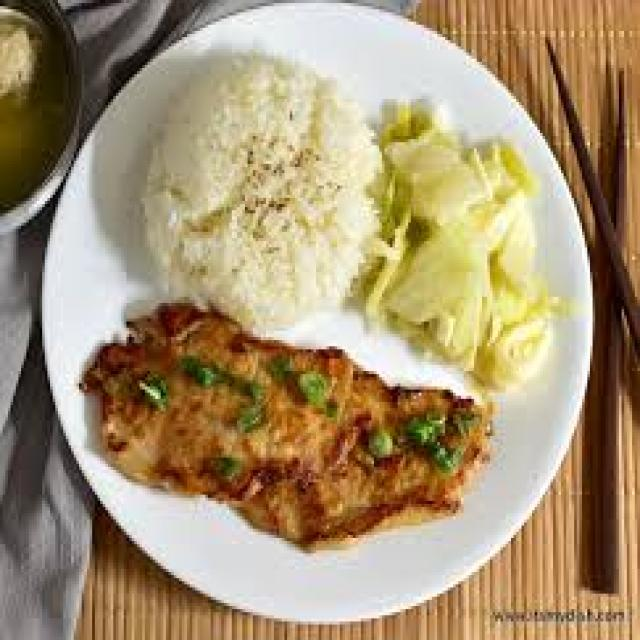Non green veg: (379, 102, 558, 386)
Pork: (84, 303, 487, 547)
Rice: (140, 49, 379, 328)
